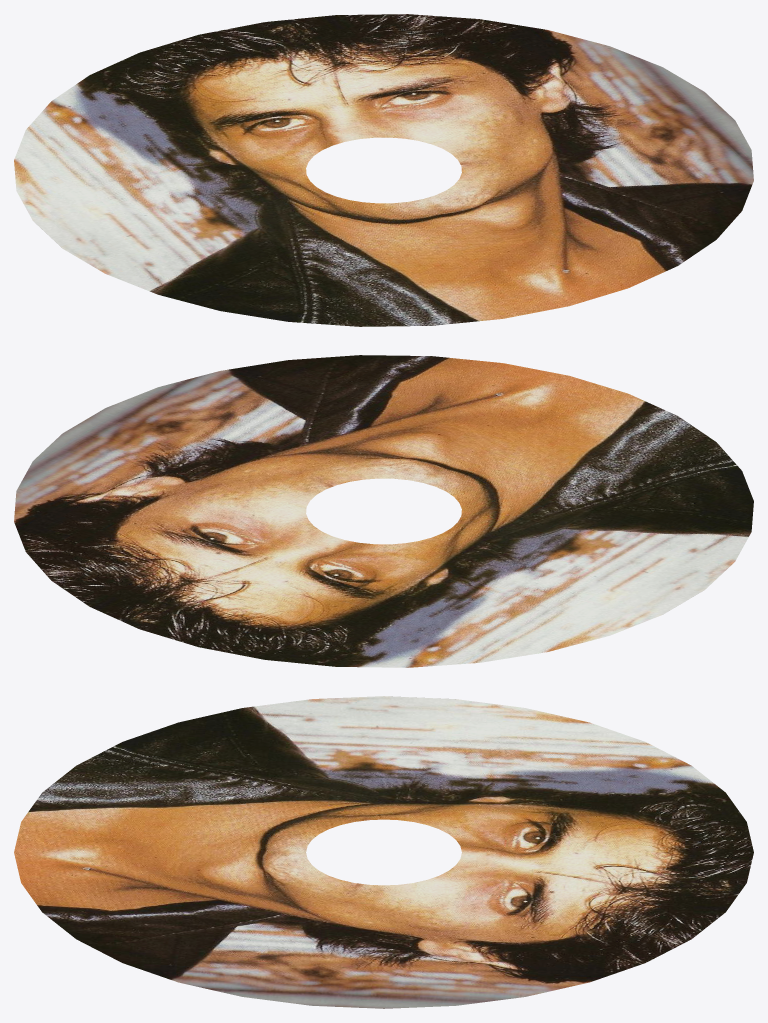
Rendered from ZoharDisk.fbx.
3 views of the same model, one above another, from view 1: azimuth 30°, elevation 25°; view 2: azimuth 150°, elevation 25°; view 3: azimuth 270°, elevation 25° (orthographic).
Parts seen in each view (by area): view 1: ZoharDisk; view 2: ZoharDisk; view 3: ZoharDisk.
Part boxes in pixels (<box>): ZoharDisk: <box>14,14,753,326</box>; ZoharDisk: <box>14,355,753,667</box>; ZoharDisk: <box>14,696,753,1008</box>.
Bounding box in the file's own units: 200 × 3.26e-05 × 200.
